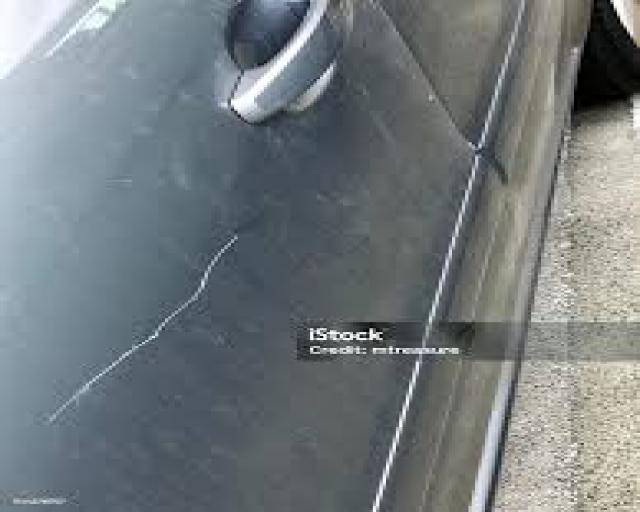scratch: (33, 224, 266, 438)
